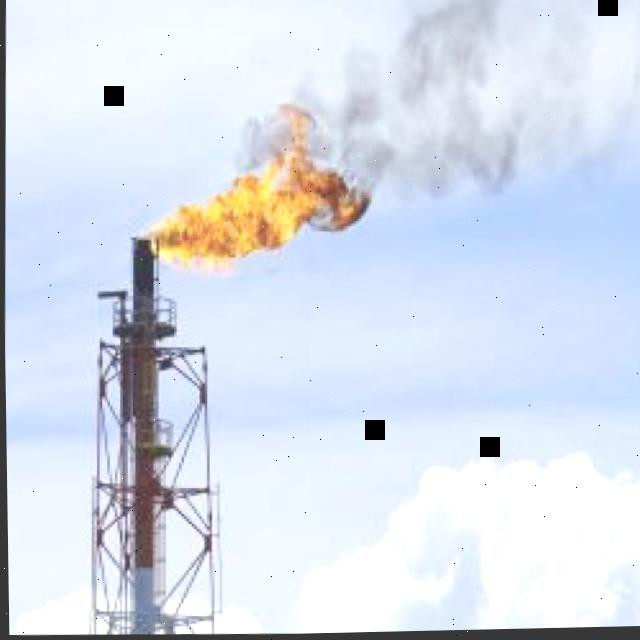fire: (148, 104, 372, 276)
smoke: (290, 0, 640, 203), (234, 116, 269, 175)
